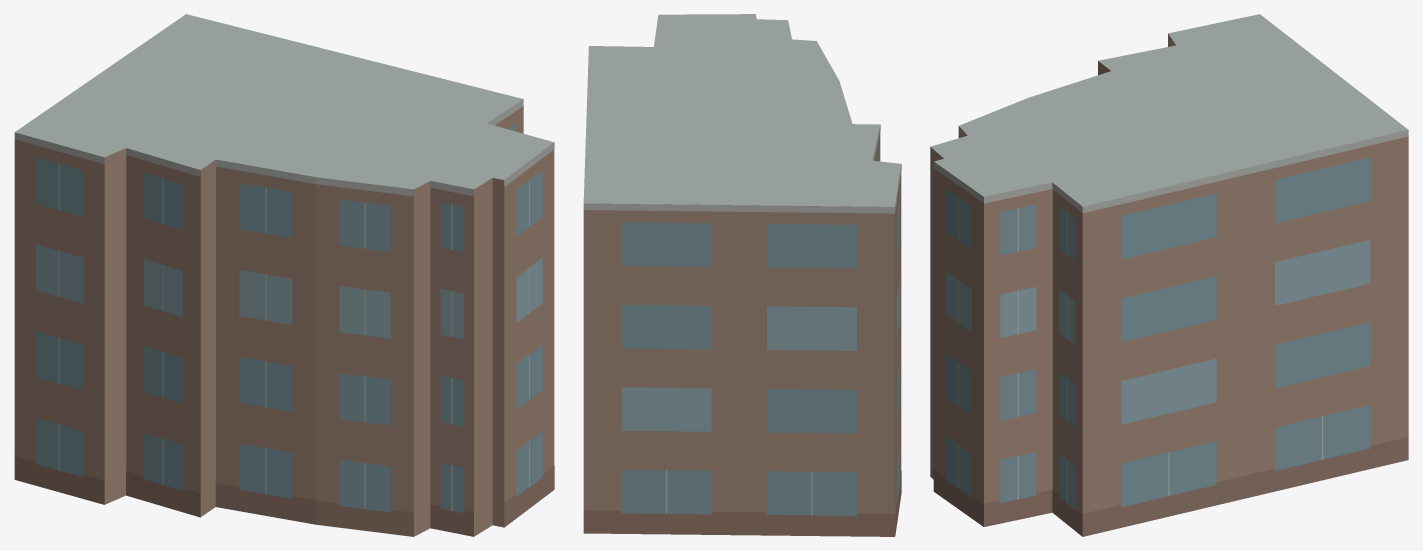
The model's file is survey-upis-32896280.glb.
The picture shows the model from 3 angles, left to right: view 1: azimuth 30°, elevation 25°; view 2: azimuth 150°, elevation 25°; view 3: azimuth 270°, elevation 25°; orthographic projection. The views are drawn at different scales.
Visible parts, largest first — view 1: survey-upis-32896280.tmp; view 2: survey-upis-32896280.tmp; view 3: survey-upis-32896280.tmp.
Part boxes in pixels (left/top/right/bottom): survey-upis-32896280.tmp: left=14, top=14, right=554, bottom=536; survey-upis-32896280.tmp: left=583, top=14, right=901, bottom=536; survey-upis-32896280.tmp: left=930, top=14, right=1408, bottom=536.
Bounding box in the file's own units: 15.29 × 12.2 × 16.03.
